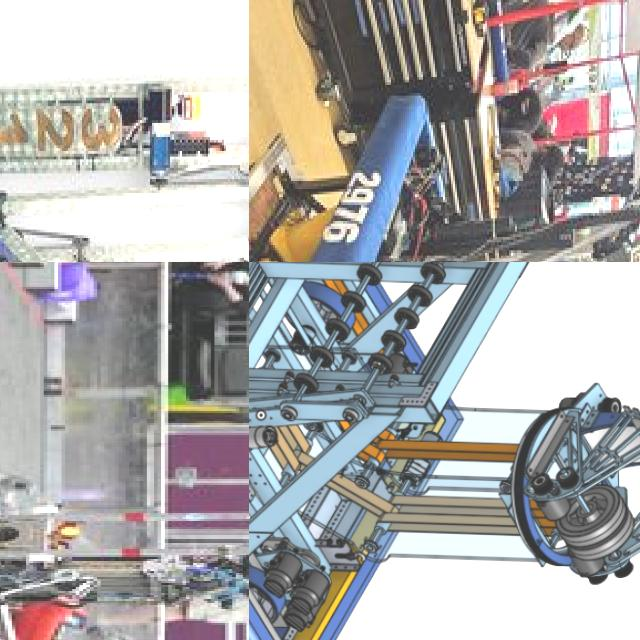FRC-Robots: (249, 262, 640, 640), (281, 68, 640, 262), (0, 5, 249, 262), (0, 453, 249, 640)
